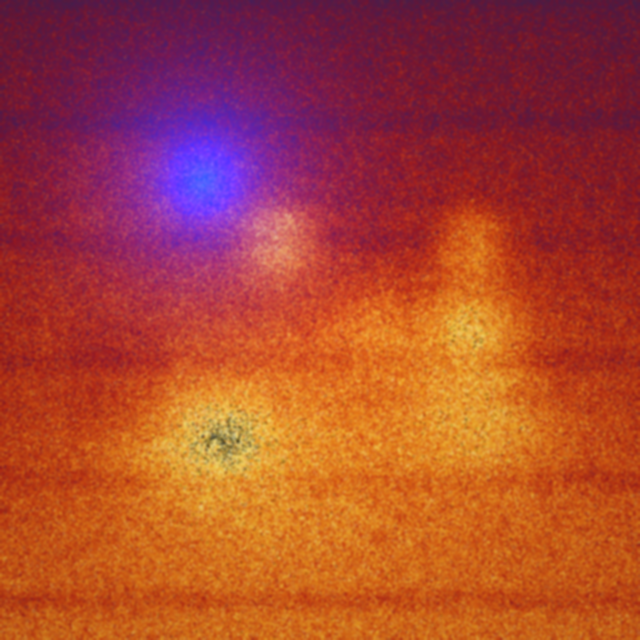nozzle: (152, 129, 254, 225)
